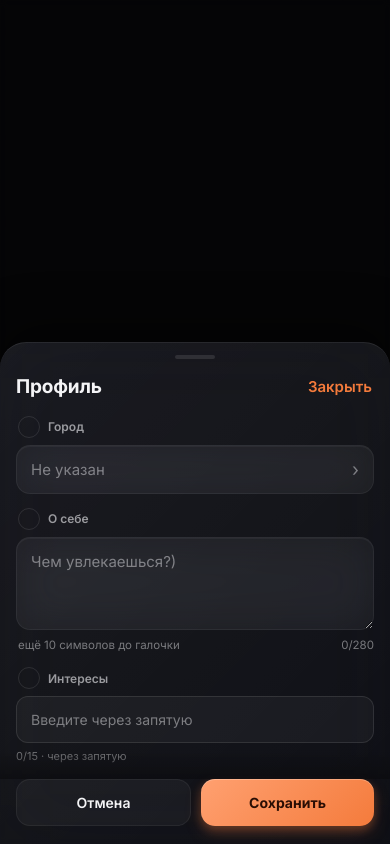
Test: ProfileEditModal — недобранный интерес (баг PO 2026-07-22) › уход с поля (blur) фиксирует недобранный текст как чип в каноничной форме
The image size is (390, 844).
In the field named "Добавить интерес": (195, 720) x1=29 y1=707 x2=361 y2=732, type "Походы В Горы"
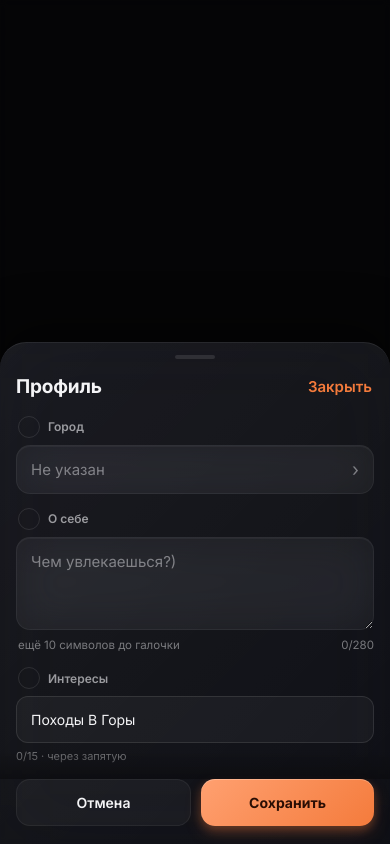
Leave the field named "Добавить интерес", box x1=29 y1=707 x2=361 y2=732
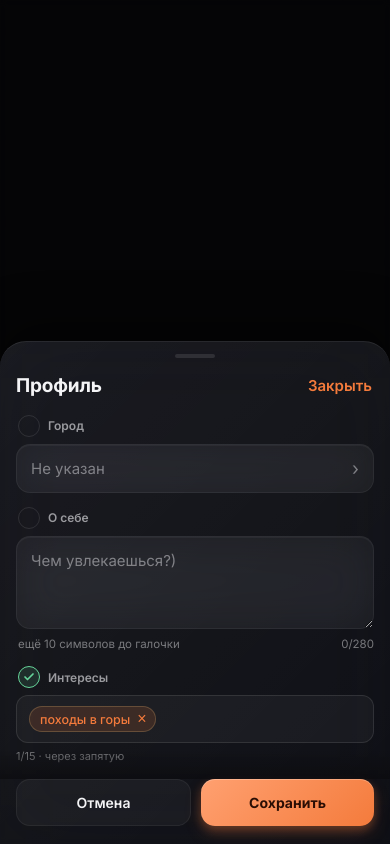
Expected: the field named "Добавить интерес" is empty, x1=162 y1=706 x2=361 y2=732
Expected: the text "походы в горы" is shown, x1=40 y1=712 x2=130 y2=726
